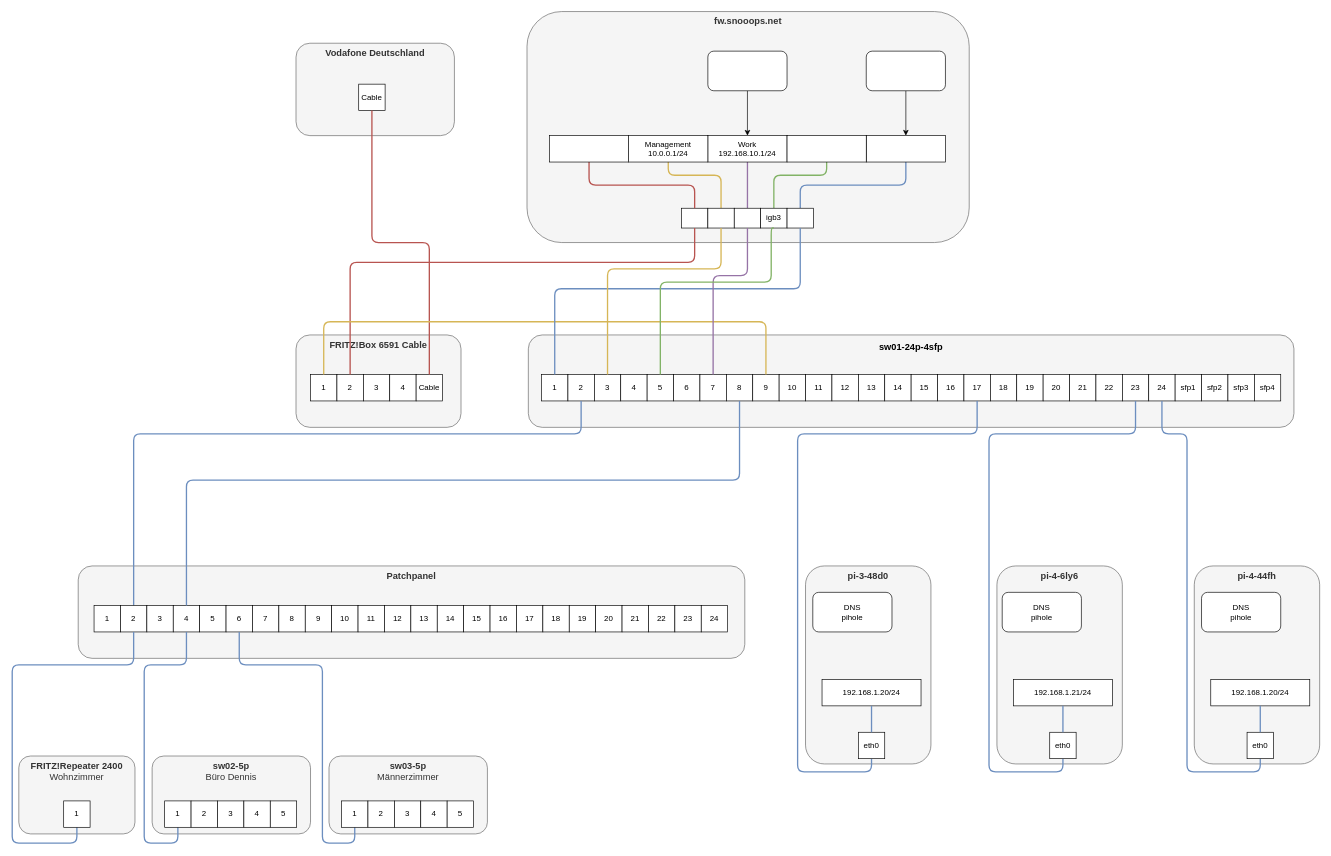
This 1331x856 diagram has some shape labels left out. The centre of each missing label's shape, as x and y in pixels:
DHCP 192.168.1.100-199: [905,70]
DHCP 192.168.10.100-199: [747,70]
Home 192.168.1.1/24: [905,148]
igb0: [694,218]
igb1: [720,218]
igb2: [747,218]
igb4: [799,218]
SmartHome 10.1.0.1/24: [826,148]
WAN 0.0.0.0/0: [589,148]
